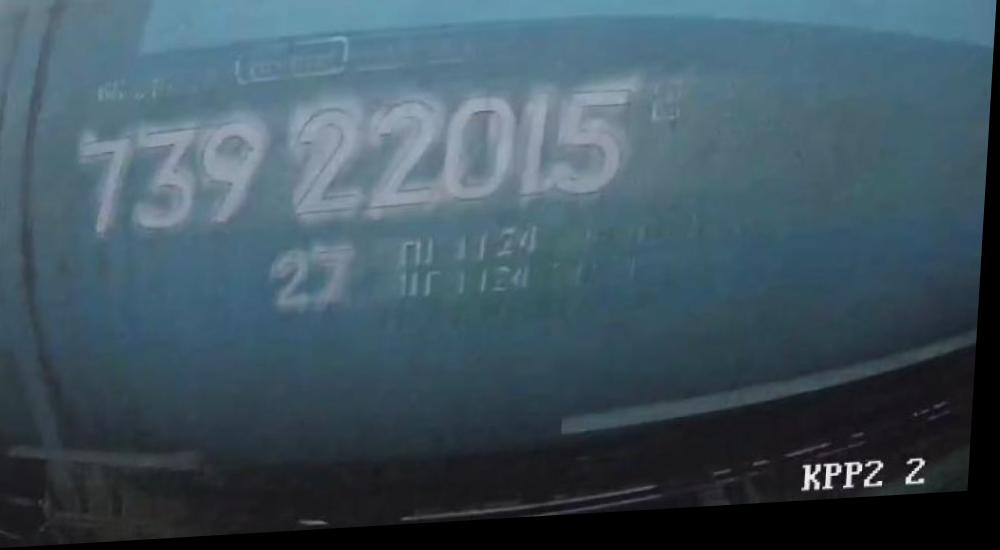Wagon-number: (74, 93, 642, 245)
